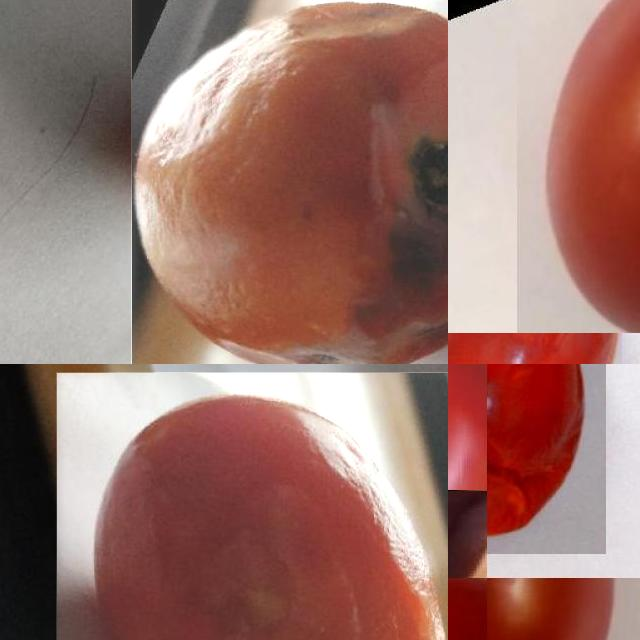Fresh Tomato: (517, 0, 640, 333), (487, 578, 640, 640)
Rotten Tomato: (131, 0, 448, 364), (56, 372, 448, 640), (487, 364, 605, 554)
